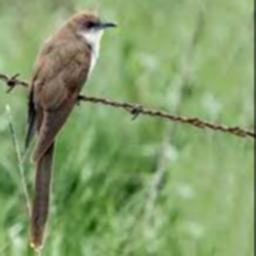Cuckoo: (23, 10, 118, 251)
